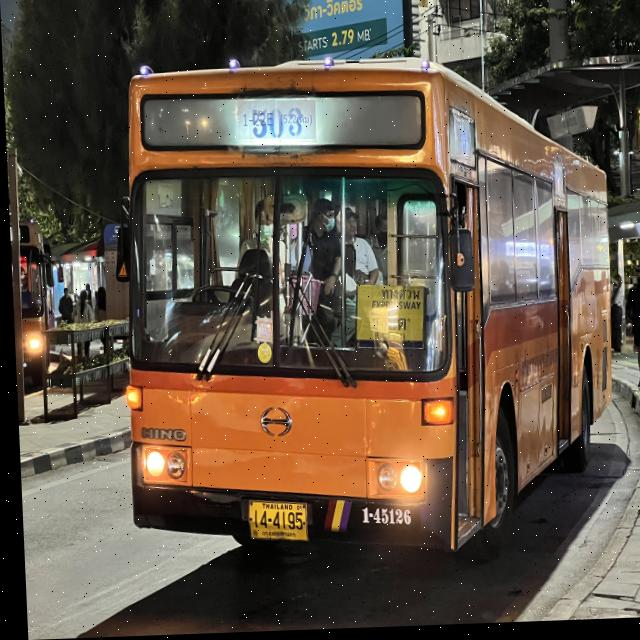BMTA-bus: (120, 65, 609, 558)
Bus Line Number: (236, 100, 316, 147)
Bus Side Number: (352, 505, 414, 534)
Destination Sign: (352, 279, 426, 352)
